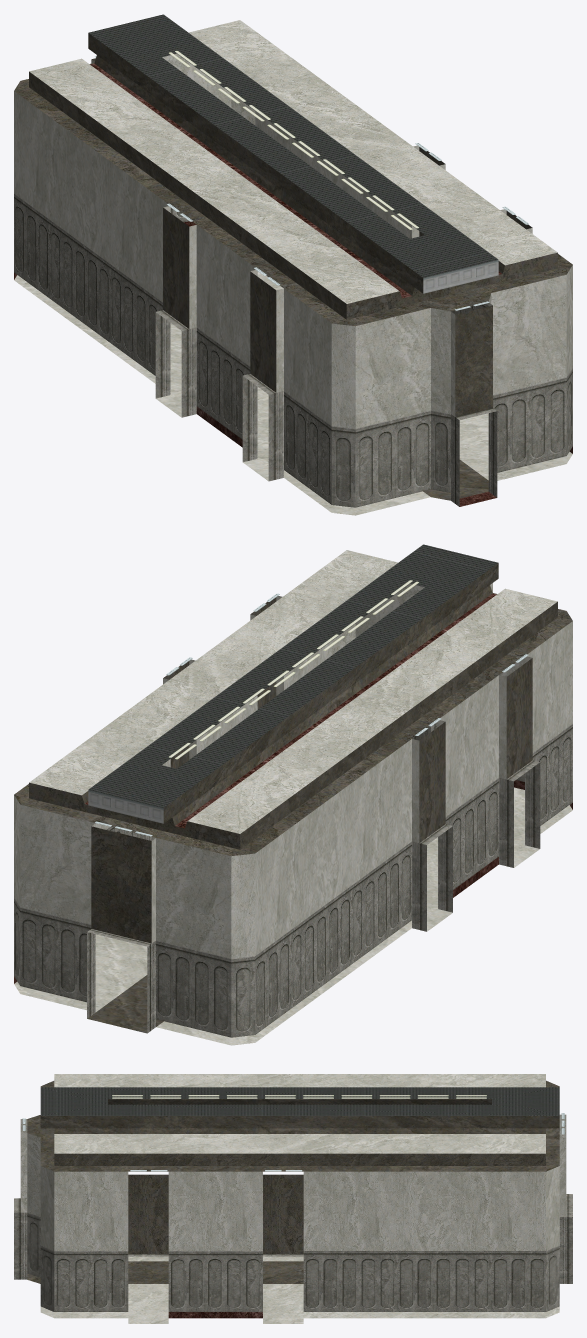
Rendered from thm_nboo_assoc_hall_civ_s01_r12_basement_mesh_r12.fbx.
The picture shows the model from 3 angles, top to bottom: view 1: azimuth 30°, elevation 25°; view 2: azimuth 150°, elevation 25°; view 3: azimuth 270°, elevation 25°; orthographic projection. The views are drawn at different scales.
Parts seen in each view (by area): view 1: mesh_node; view 2: mesh_node; view 3: mesh_node.
Part boxes in pixels (x1=…): mesh_node: x1=14, y1=14, x2=572, y2=515; mesh_node: x1=14, y1=544, x2=572, y2=1045; mesh_node: x1=14, y1=1074, x2=572, y2=1323.
Size of the model in its own units: 9 by 7.2 by 20.74.
